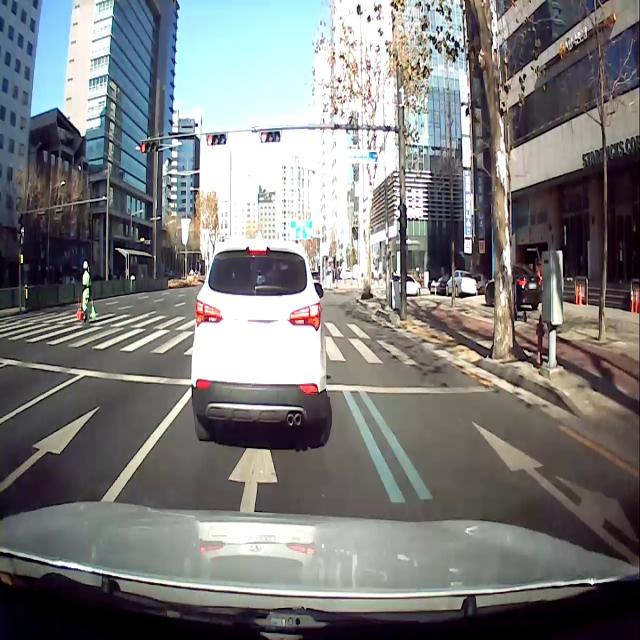Red Light: (260, 130, 267, 144), (206, 133, 213, 146), (140, 140, 146, 154)
